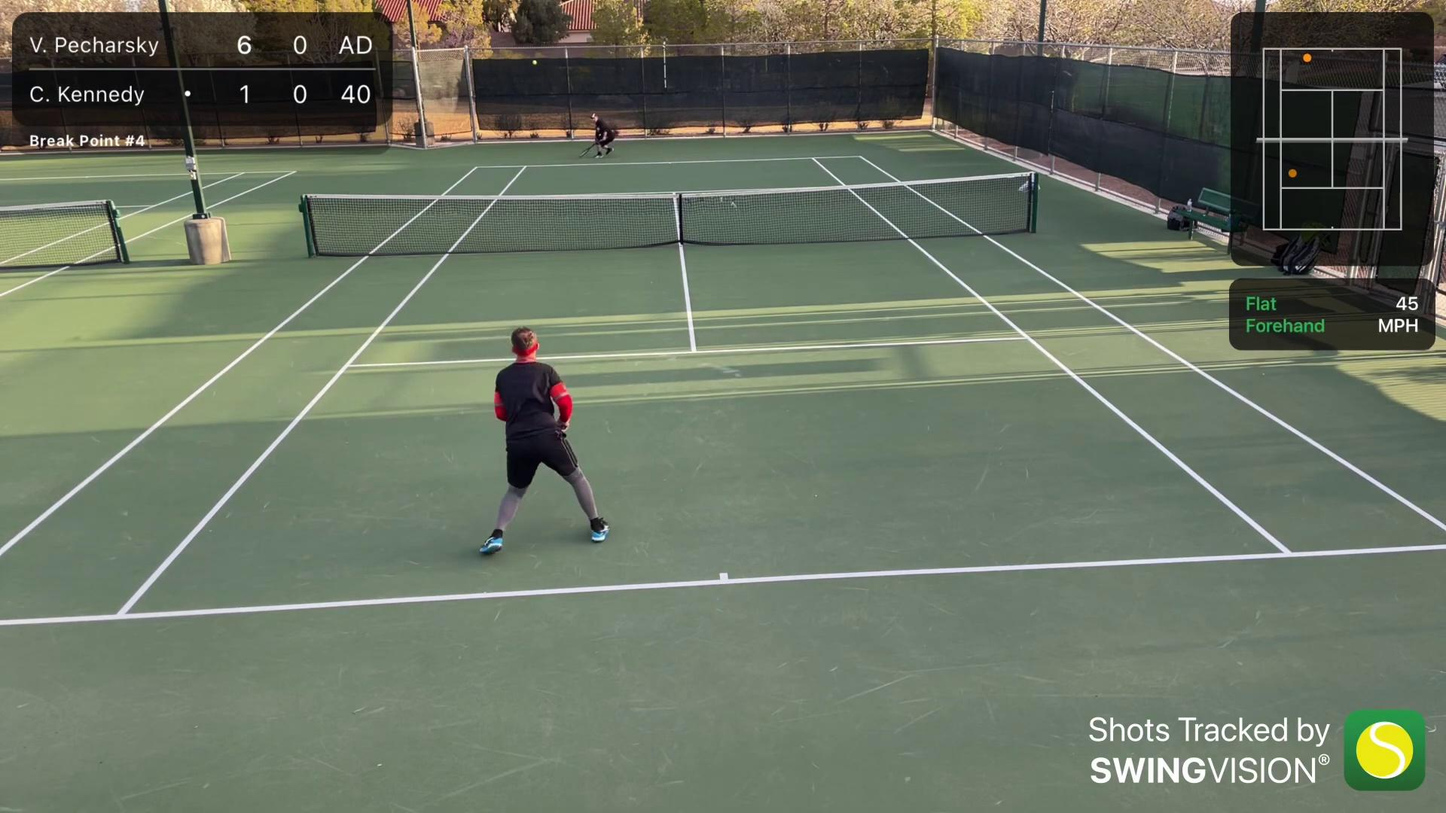ball: (530, 58, 538, 65)
